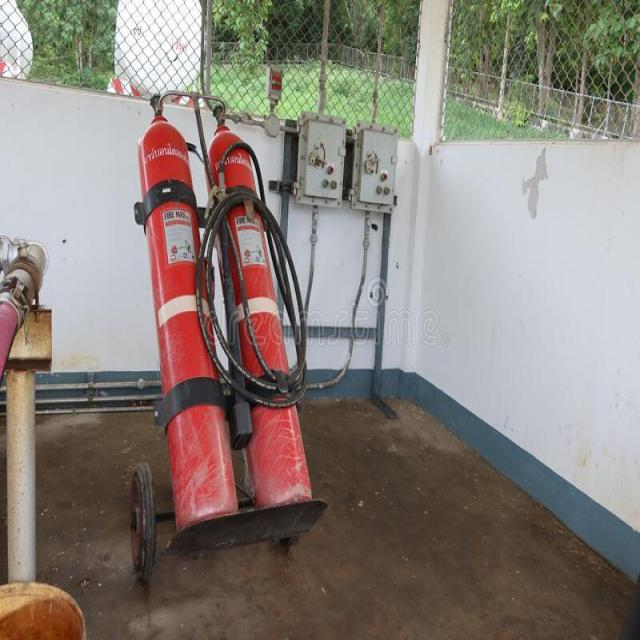fire_extinguisher: (131, 86, 245, 556), (204, 97, 316, 541)
